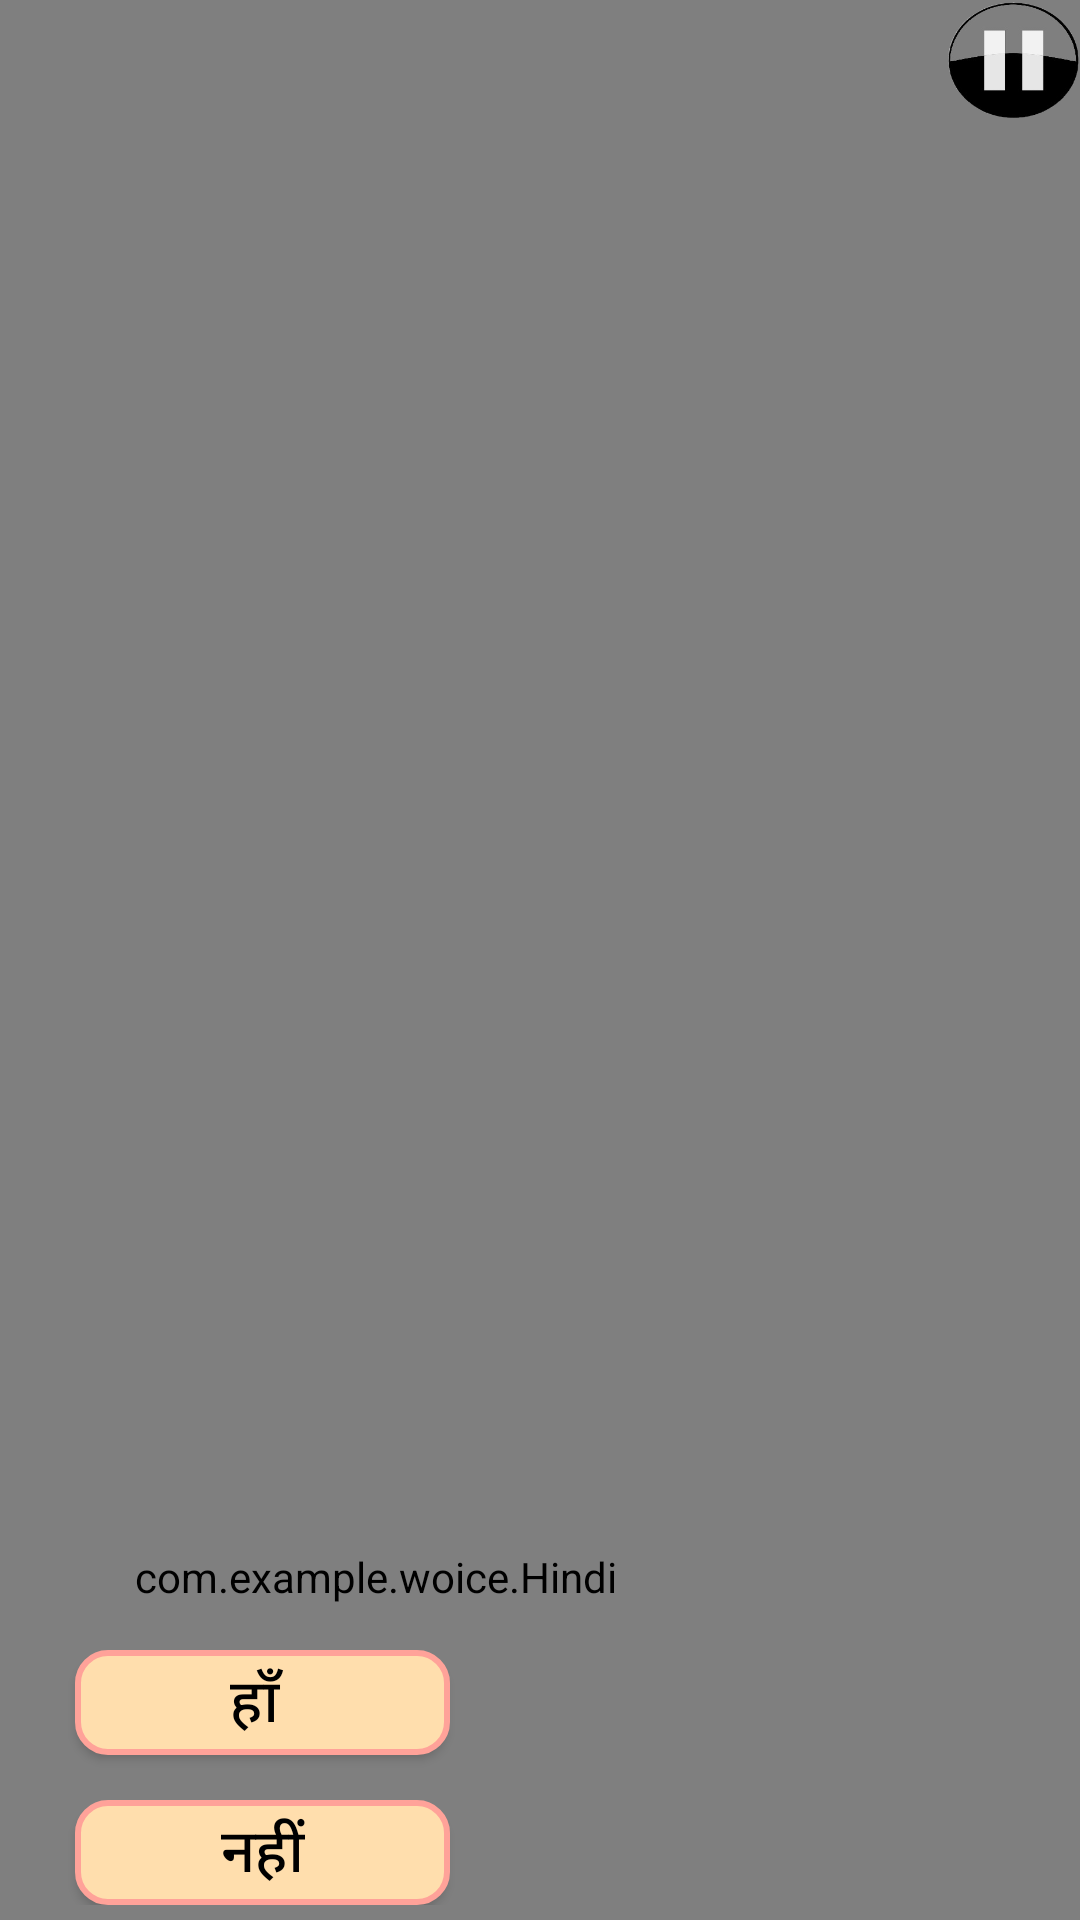

Screen size 1080×1920. Icon name, then its center in pixels as (x=x, y=y):
pauseicon: (x=1014, y=60)
